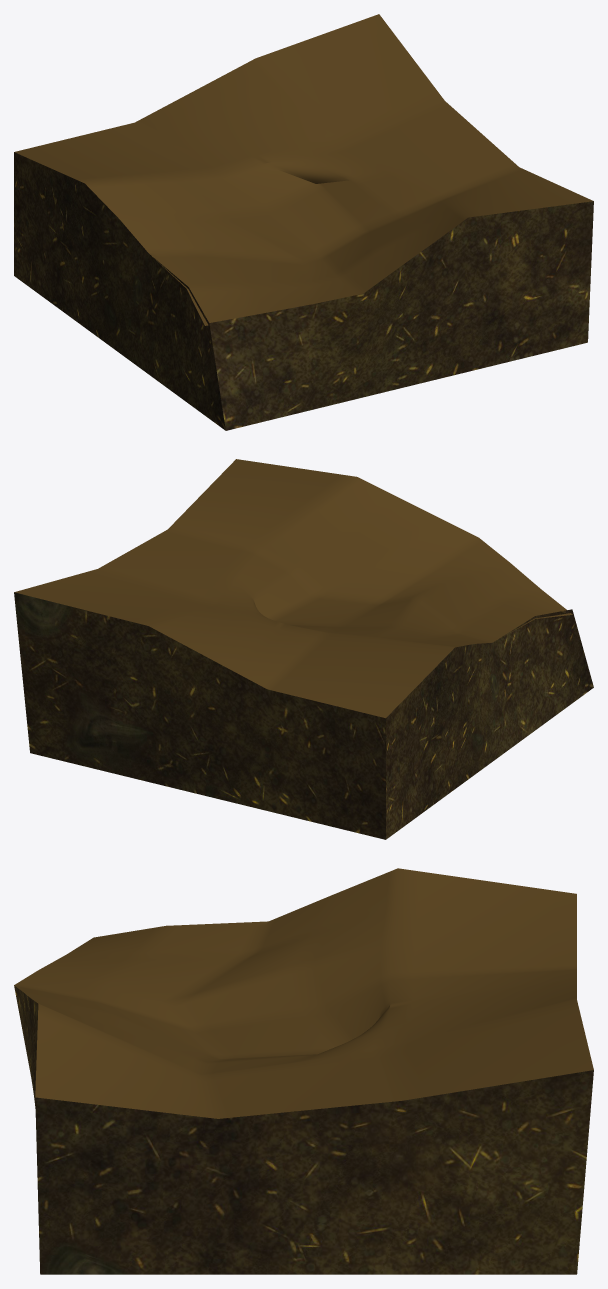
File: GrassTerrain_267_fixed.glb
3 views of the same model, one above another, from view 1: azimuth 30°, elevation 25°; view 2: azimuth 150°, elevation 25°; view 3: azimuth 270°, elevation 25° (orthographic). The views are drawn at different scales.
Parts seen in each view (by area): view 1: 立方体.267; view 2: 立方体.267; view 3: 立方体.267.
Boxes of the visible parts, left/top/right/bottom form: 立方体.267: left=14, top=14, right=593, bottom=430; 立方体.267: left=14, top=459, right=593, bottom=839; 立方体.267: left=14, top=868, right=593, bottom=1274.
Size of the model in its own units: 191 by 81.39 by 203.
2 materials, 1 textured.
